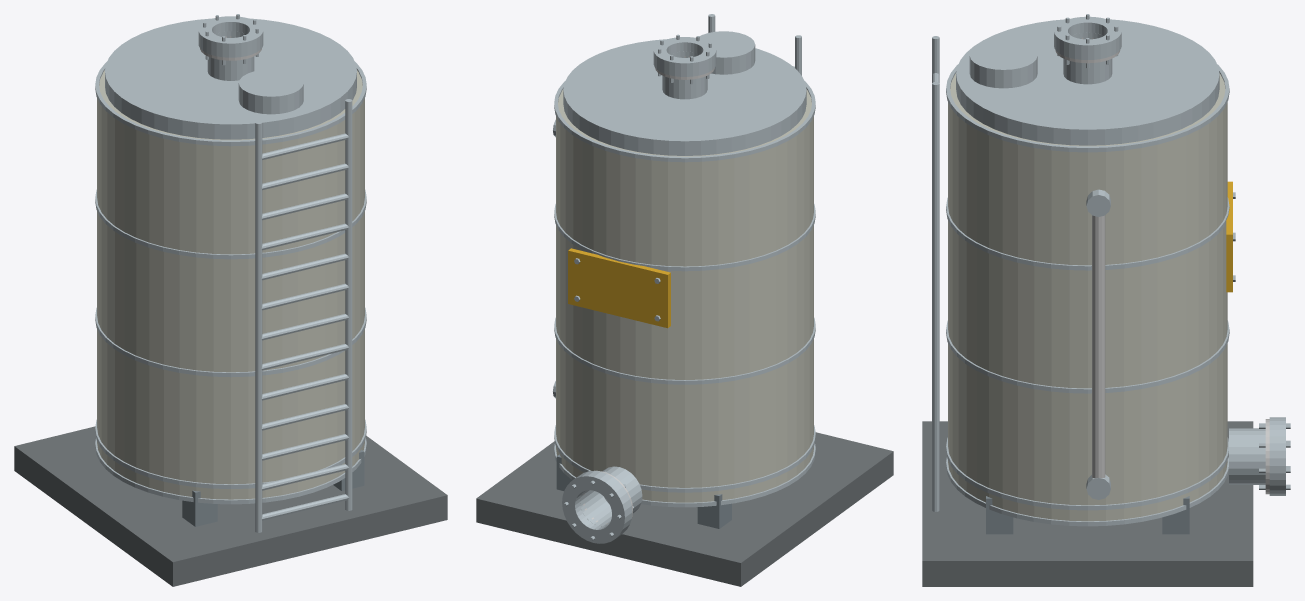
File: compact.obj
The picture shows the model from 3 angles, left to right: view 1: azimuth 30°, elevation 25°; view 2: azimuth 150°, elevation 25°; view 3: azimuth 270°, elevation 25°; orthographic projection. The views are drawn at different scales.
Size of the model in its own units: 0.5511 by 0.9 by 0.6132.
